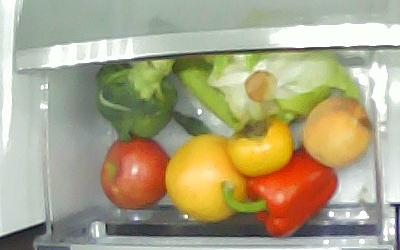apple: (102, 137, 170, 209)
broccoli: (96, 54, 176, 142)
cucumber: (173, 58, 245, 132)
grapefruit: (163, 134, 246, 222)
lettuce: (203, 49, 361, 126)
paprika: (222, 149, 339, 236)
peach: (302, 96, 371, 168)
persimmon: (228, 119, 293, 176)
